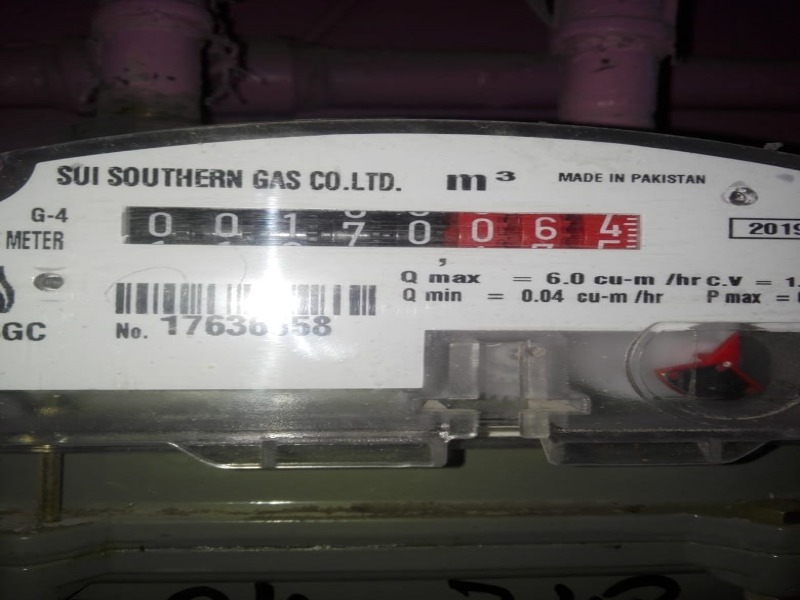ssgc: (115, 203, 644, 253)
